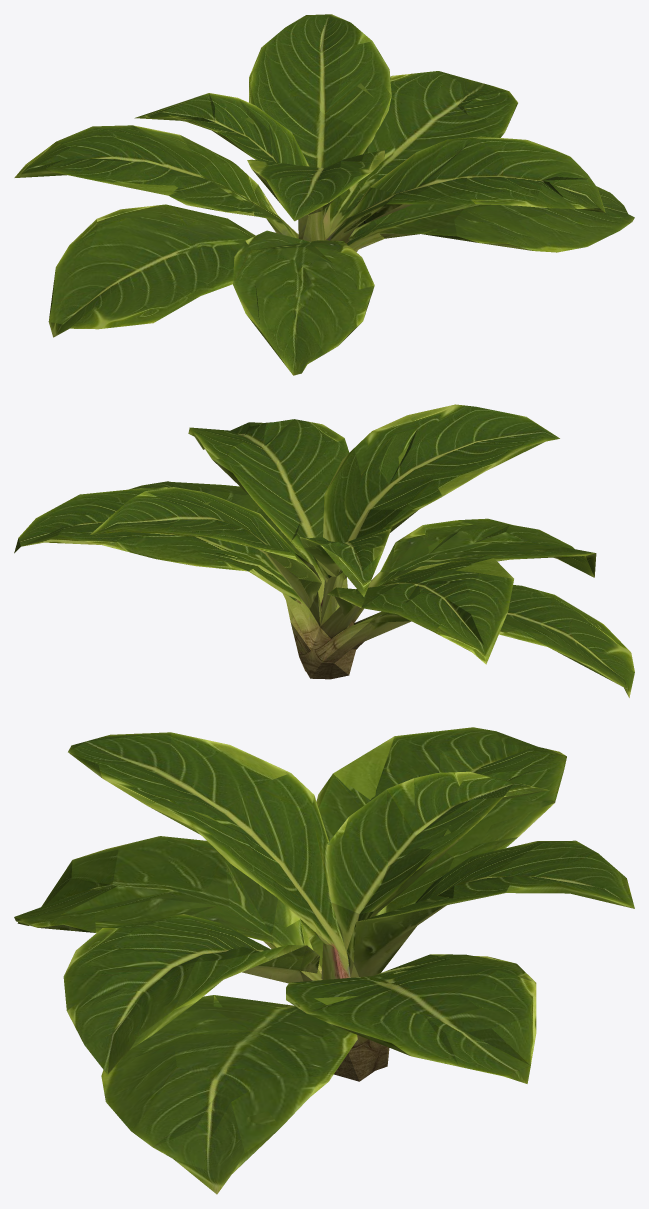
Rendered from co_broadleaf_cushion.glb.
3 views of the same model, one above another, from view 1: azimuth 30°, elevation 25°; view 2: azimuth 150°, elevation 25°; view 3: azimuth 270°, elevation 25° (orthographic). The views are drawn at different scales.
Visible parts, largest first — view 1: output_unwrapped; view 2: output_unwrapped; view 3: output_unwrapped.
Boxes of the visible parts, box(x1,y1,x2,y2) form: output_unwrapped: box(14, 14, 634, 375); output_unwrapped: box(14, 404, 634, 697); output_unwrapped: box(14, 727, 634, 1194).
Bounding box in the file's own units: 1.89 × 0.6527 × 1.35.
1 material, 1 textured.
